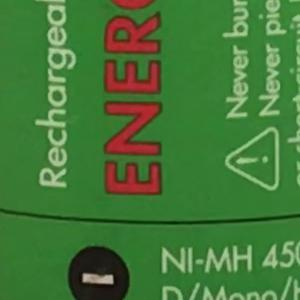NI-MH: (153, 238, 258, 281)
